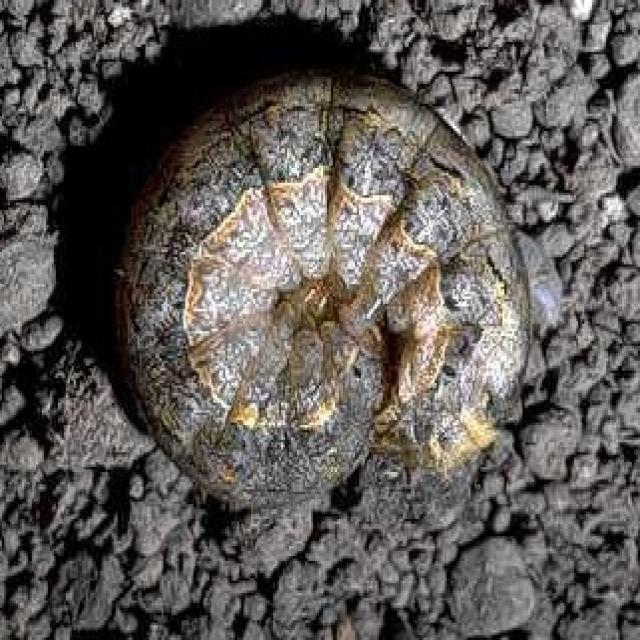black cutworm: (113, 60, 543, 505)
